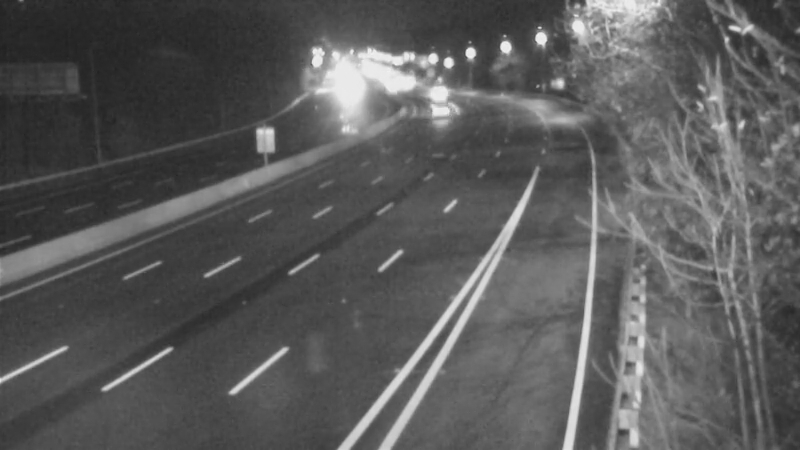vehicle: (409, 67, 459, 117), (412, 83, 462, 133)
